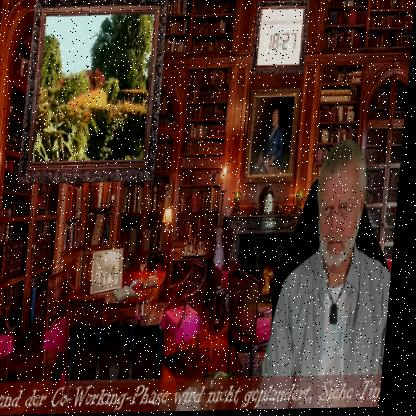streamer: (265, 141, 406, 411)
